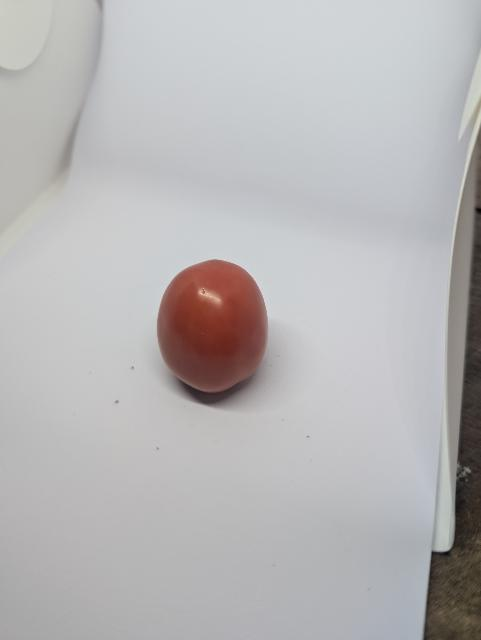red: (154, 257, 271, 397)
